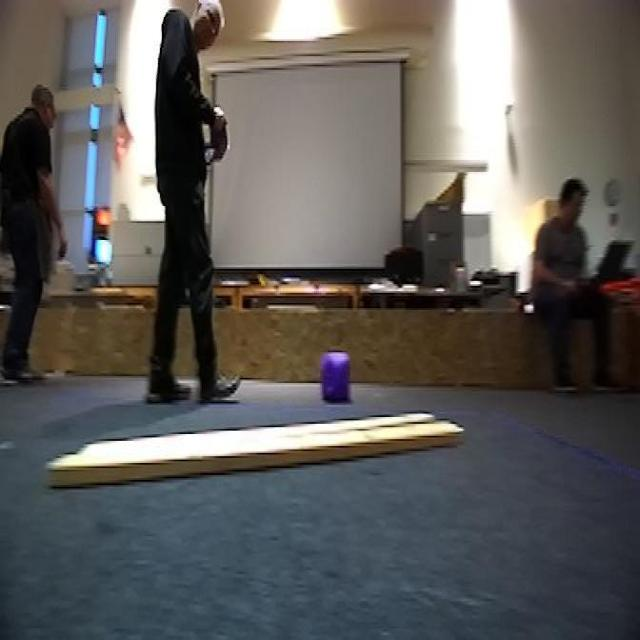frc_cube: (317, 354, 353, 402)
